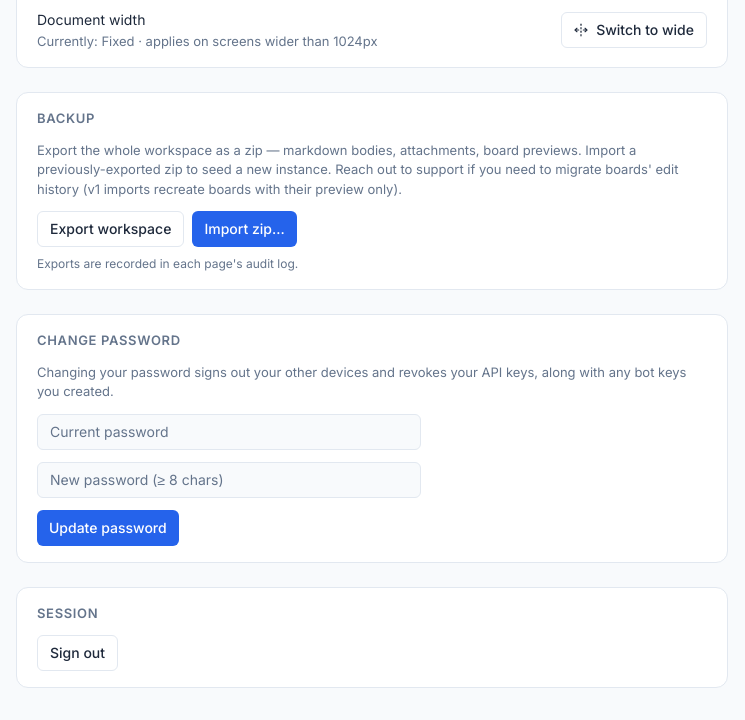
SettingsPage password change revokes keys › leaves the key lists alone when the change failed
(page scrolled)
In the password field with test id "pw-current": (229, 432) [37,414,421,450], type "oldpassword1"
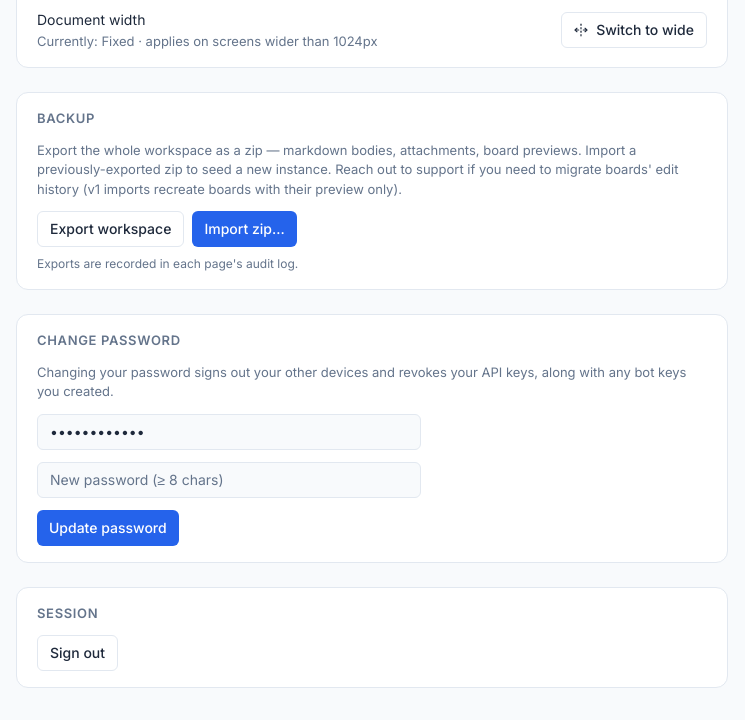
In the password field with test id "pw-new": (229, 480) [37,462,421,498], type "newpassword1"
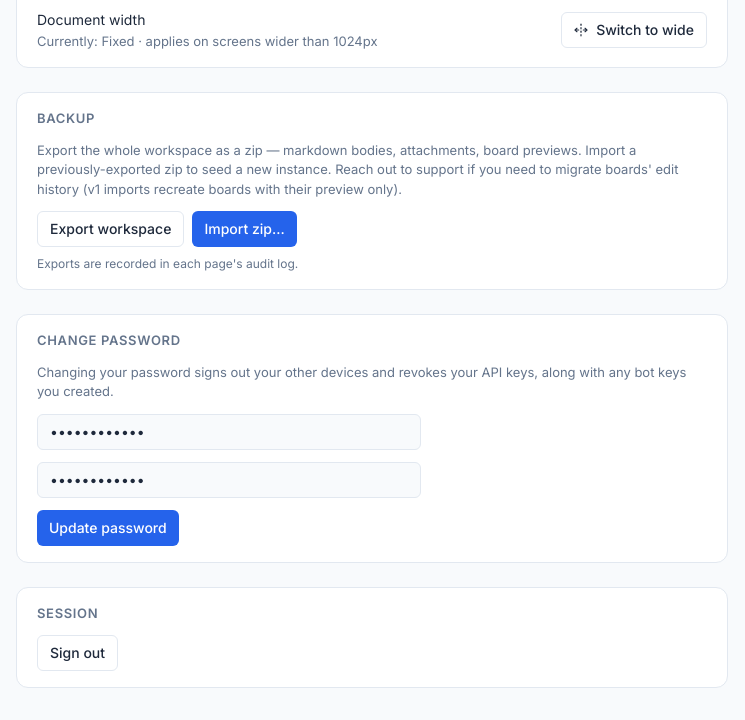
Click the button with test id "pw-submit": (108, 528) [37,510,179,546]
(page scrolled)
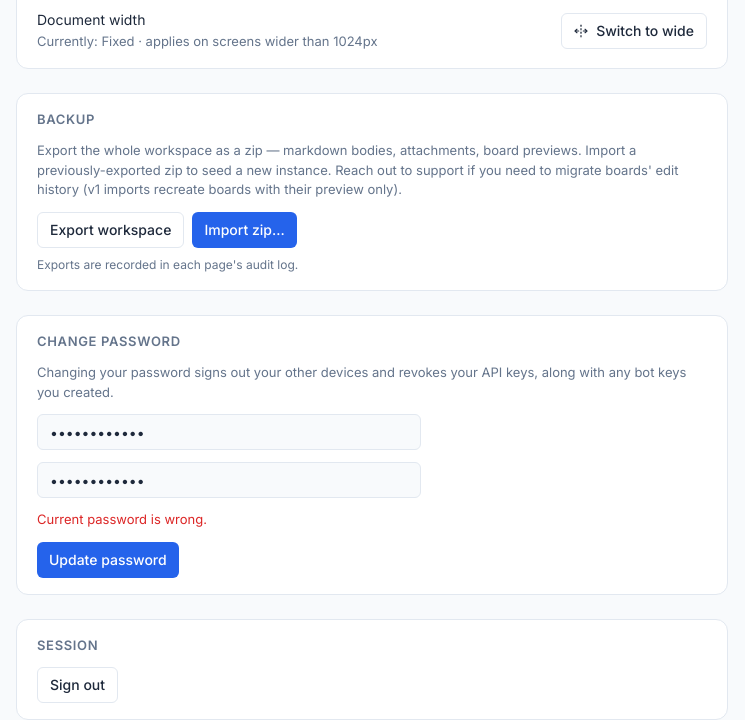
Result: the message with test id "pw-error" reads "Current password is wrong." at [37,511,207,527]
